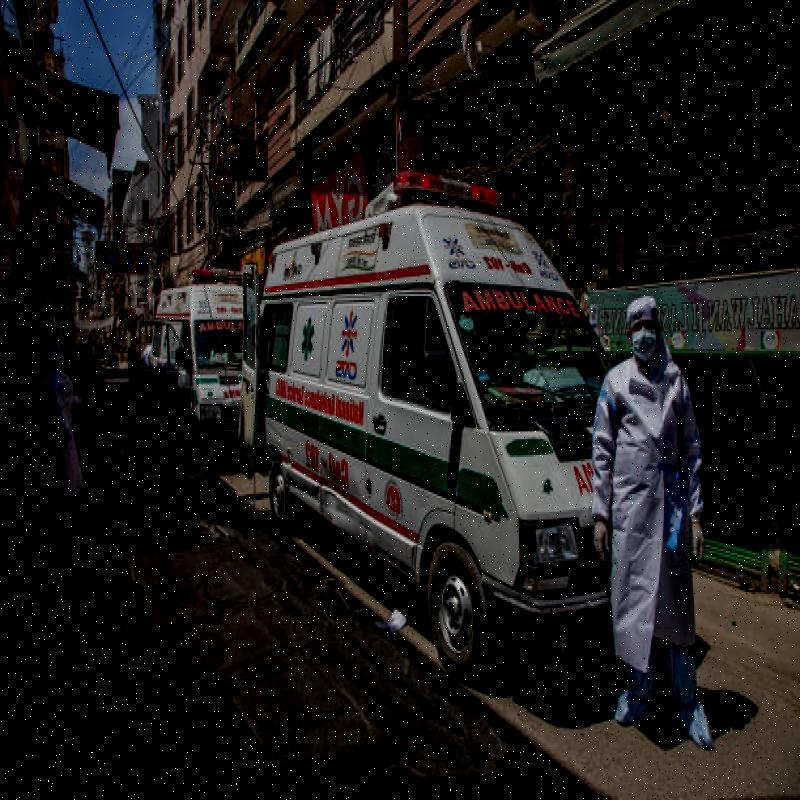AmbulanceSiren: (376, 175, 508, 214), (190, 249, 261, 294)
ambulance: (260, 166, 628, 612), (164, 260, 261, 472)
